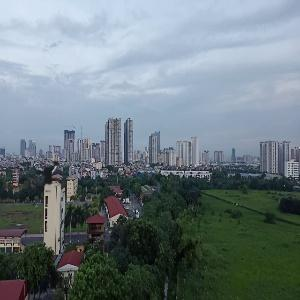drone: (16, 144, 87, 215)
